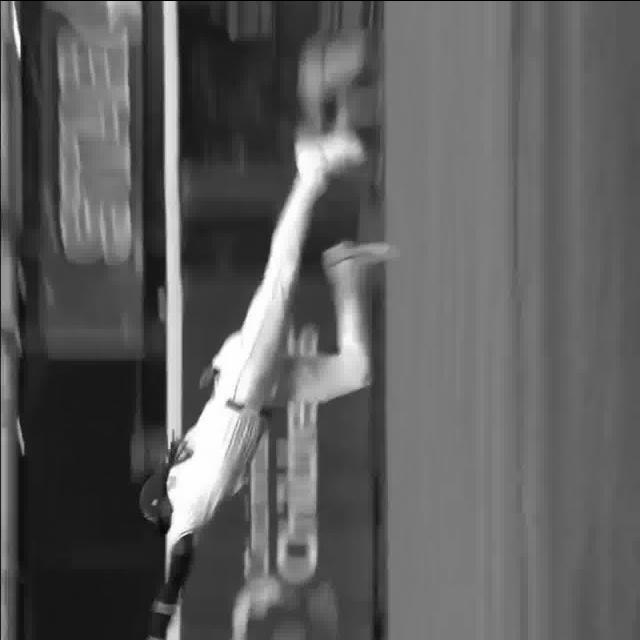shoe: (296, 129, 368, 165), (324, 238, 394, 272)
